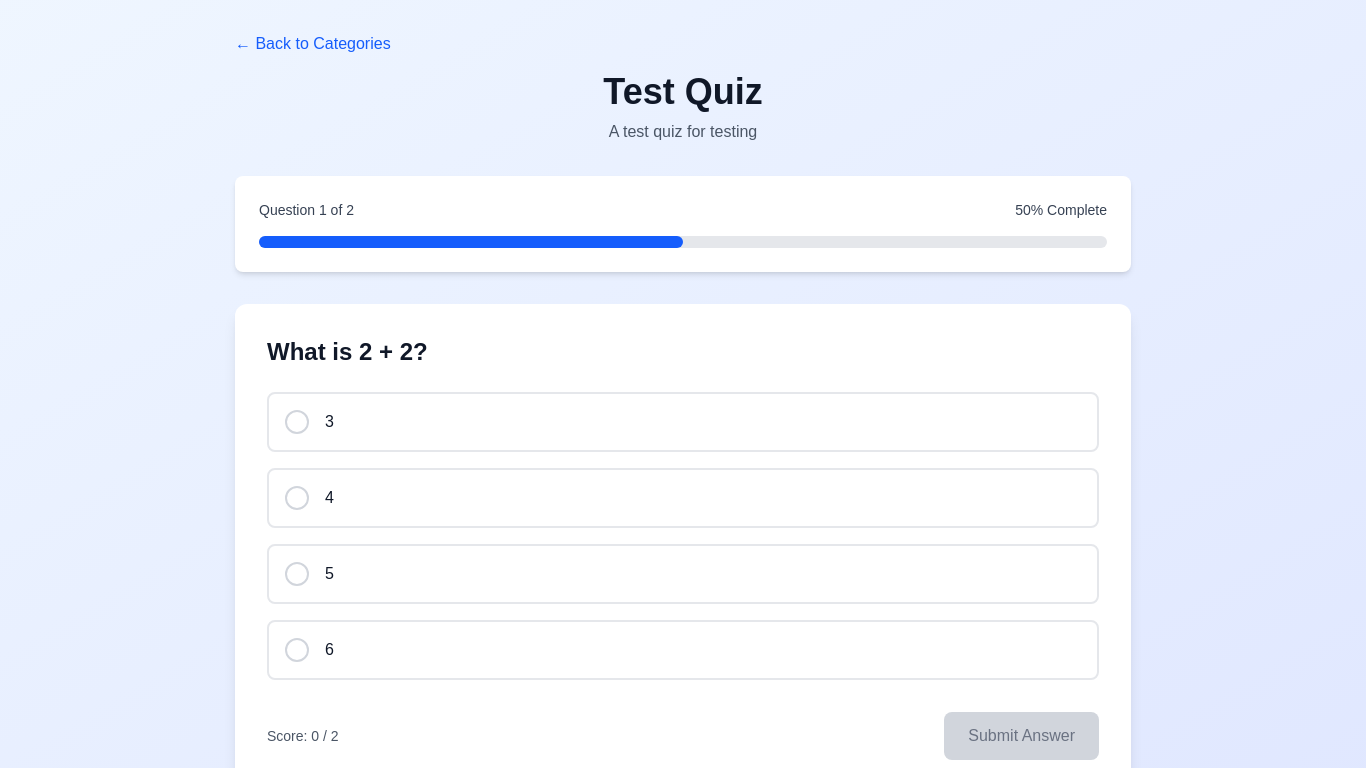
QuizComponent › allows selecting an answer
The width and height of the screenshot is (1366, 768).
Click the button "4": (297, 498) [267,468,1099,528]
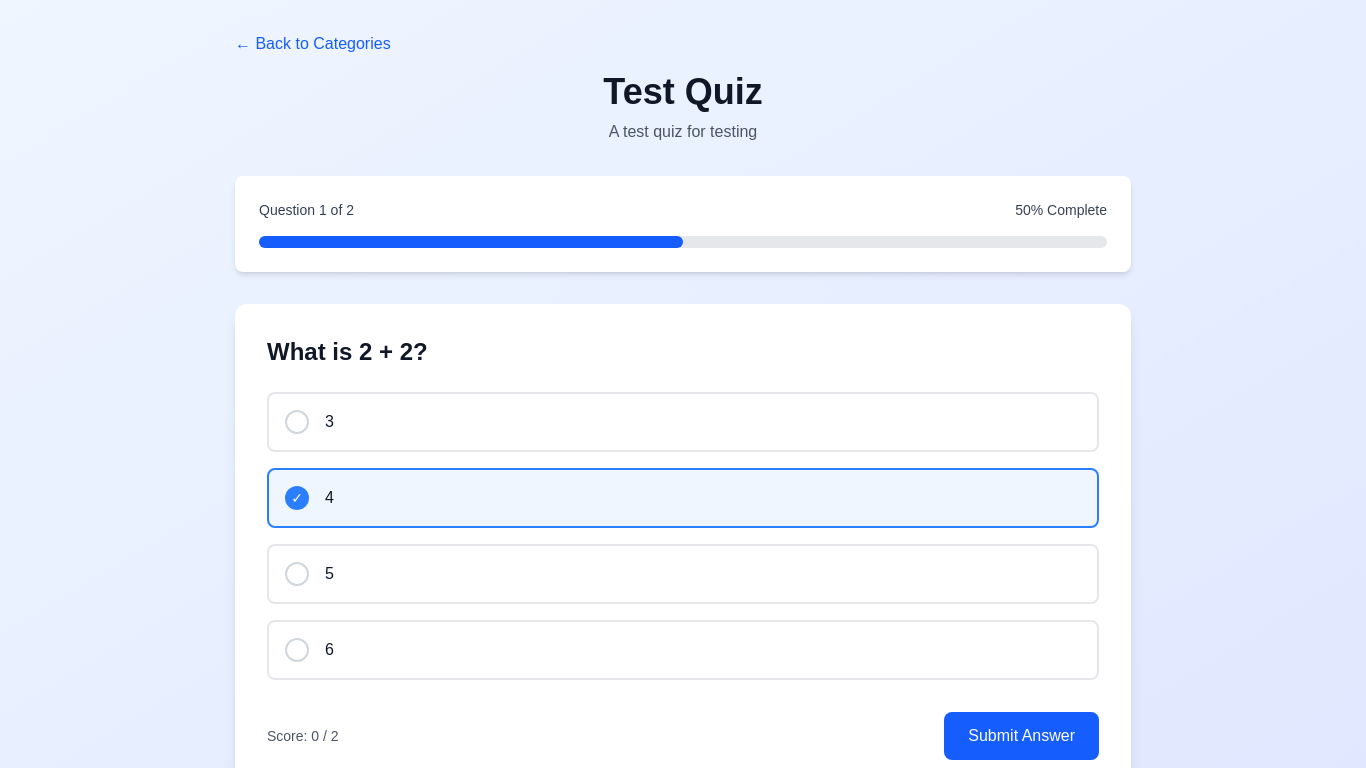
Now the button "Submit Answer" is enabled, box [944,712,1099,760]
